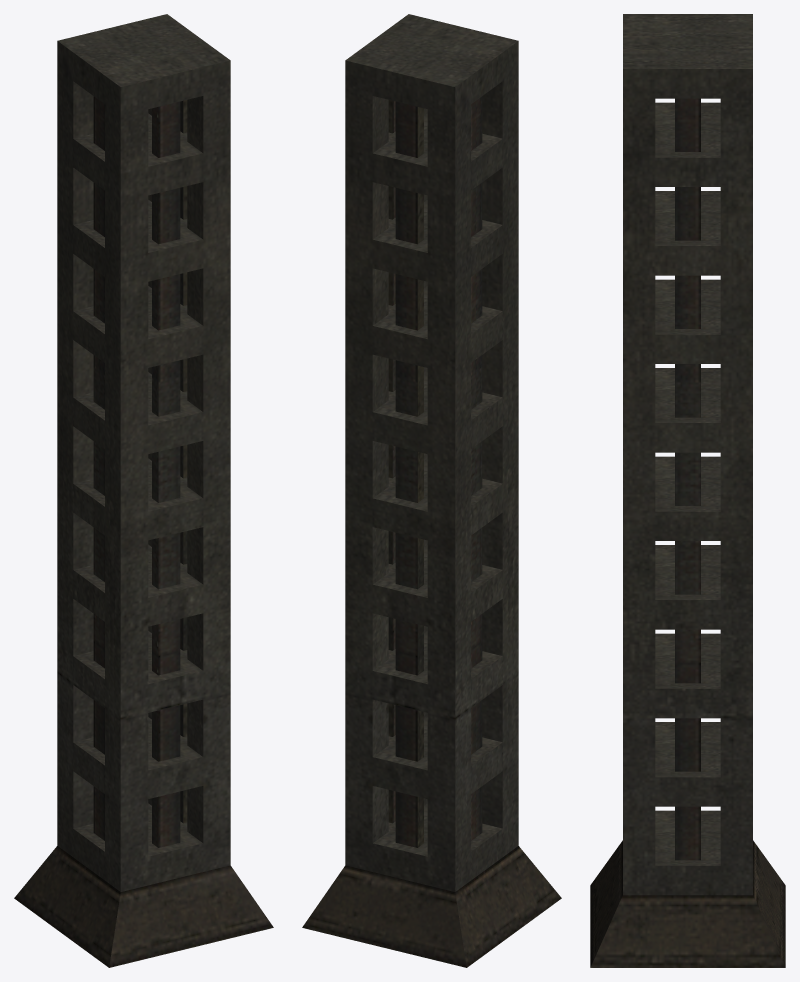
Rendered from pillar_rgx_2.dae.
3 views of the same model, side by side, from view 1: azimuth 30°, elevation 25°; view 2: azimuth 150°, elevation 25°; view 3: azimuth 270°, elevation 25° (orthographic). The views are drawn at different scales.
Visible parts, largest first — view 1: pillar_rgx_2; view 2: pillar_rgx_2; view 3: pillar_rgx_2.
Part boxes in pixels (box(x1,y1,x2,y2)): pillar_rgx_2: box(14, 14, 273, 967); pillar_rgx_2: box(302, 14, 561, 967); pillar_rgx_2: box(590, 14, 785, 967).
Bounding box in the file's own units: 0.6 × 0.6 × 3.
2 materials, 2 textured.
